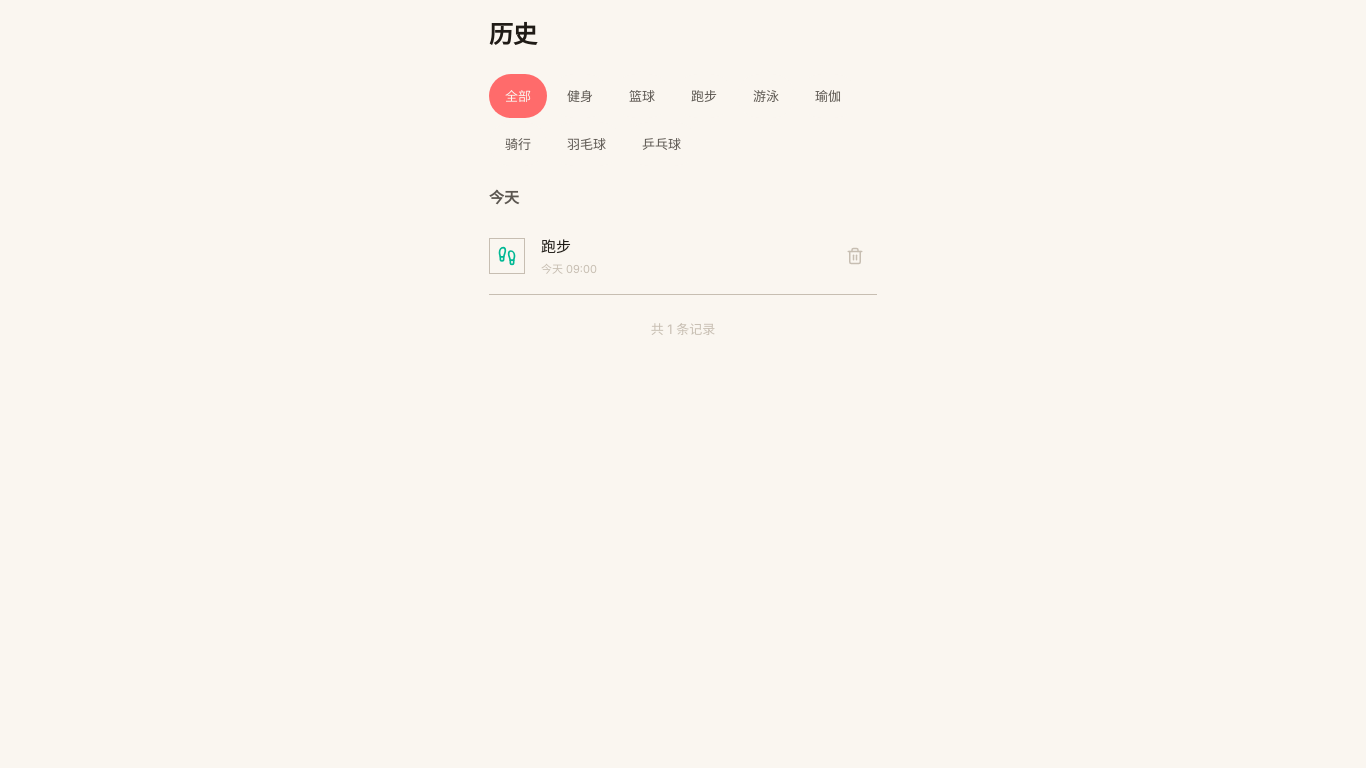
Test case: History 历史记录页 › 删除失败时显示错误Toast且不隐藏记录
Expected: the element with test id "group-今天" is shown, x1=489 y1=186 x2=877 y2=295
Click the button named "删除" at coordinates (855, 256), box x1=833 y1=234 x2=877 y2=278
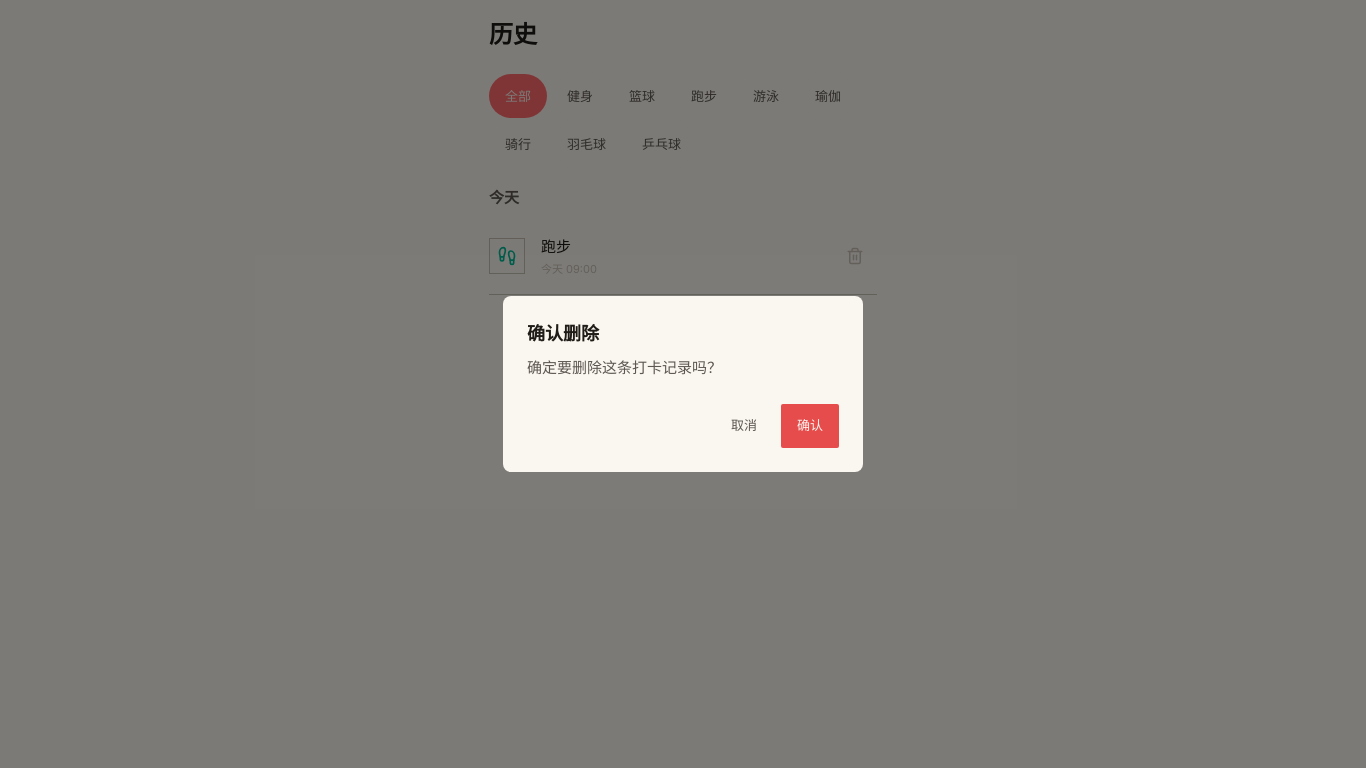
Result: the dialog with test id "confirm-dialog-backdrop" is shown
Click the button "确认" at coordinates (810, 426), box x1=781 y1=404 x2=839 y2=448
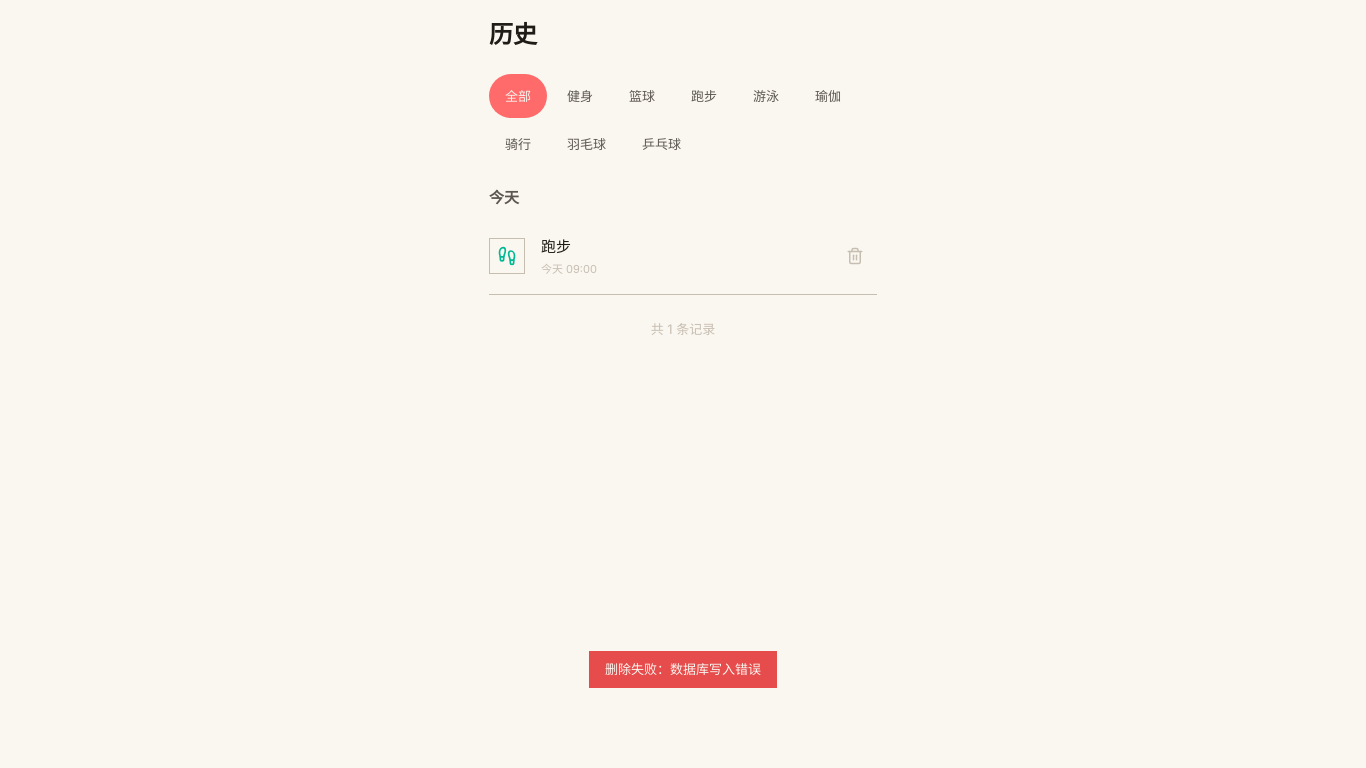
Result: the message "删除失败：数据库写入错误" is shown at x1=589 y1=651 x2=777 y2=688
Result: the message shows "删除失败" at x1=605 y1=661 x2=761 y2=677
Result: the dialog with test id "confirm-dialog-backdrop" is gone
